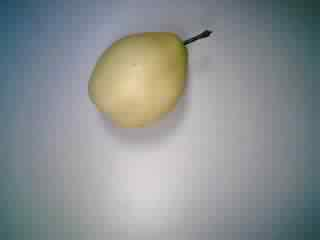pear: (74, 25, 220, 132)
